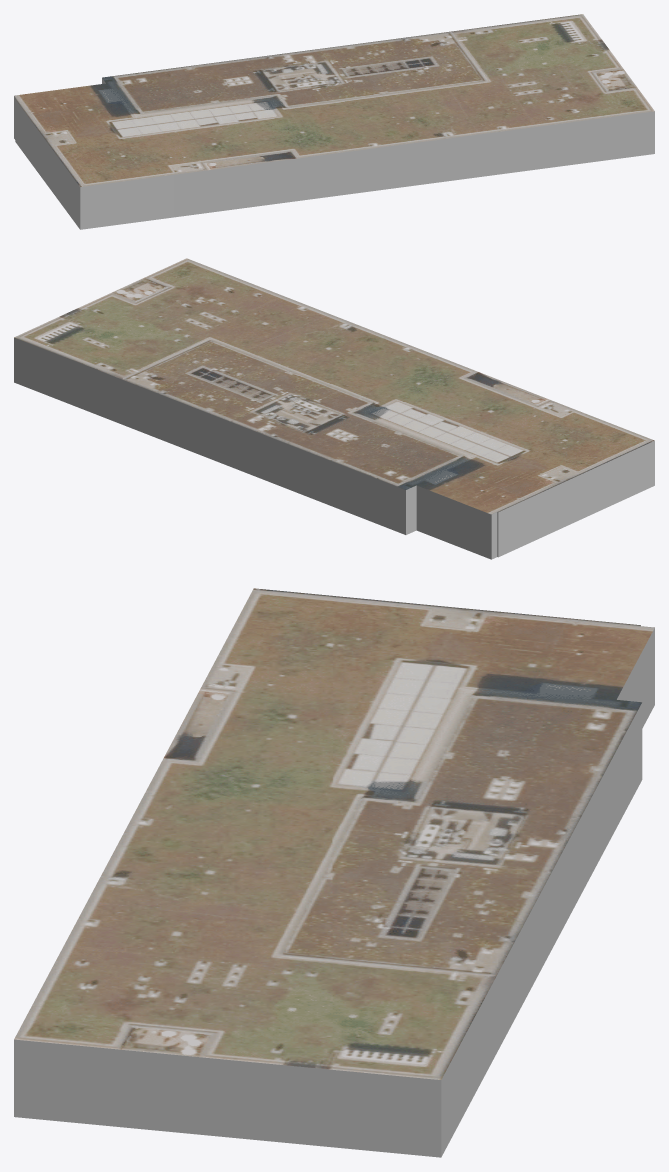
Rendered from DEBW_0010007Txfq.gltf.
3 views of the same model, one above another, from view 1: azimuth 30°, elevation 25°; view 2: azimuth 150°, elevation 25°; view 3: azimuth 270°, elevation 25° (orthographic). The views are drawn at different scales.
Visible parts, largest first — view 1: Z_UP; view 2: Z_UP; view 3: Z_UP.
Part boxes in pixels (bbox=[...]): Z_UP: bbox=[14, 14, 654, 229]; Z_UP: bbox=[14, 258, 654, 559]; Z_UP: bbox=[14, 588, 654, 1157].
Bounding box in the file's own units: 160 × 11.73 × 87.94.
Materials: 2 (1 with a texture image).
